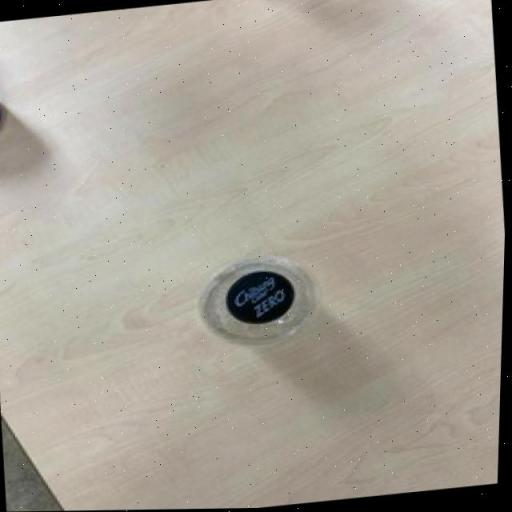plastic: (192, 244, 334, 358)
